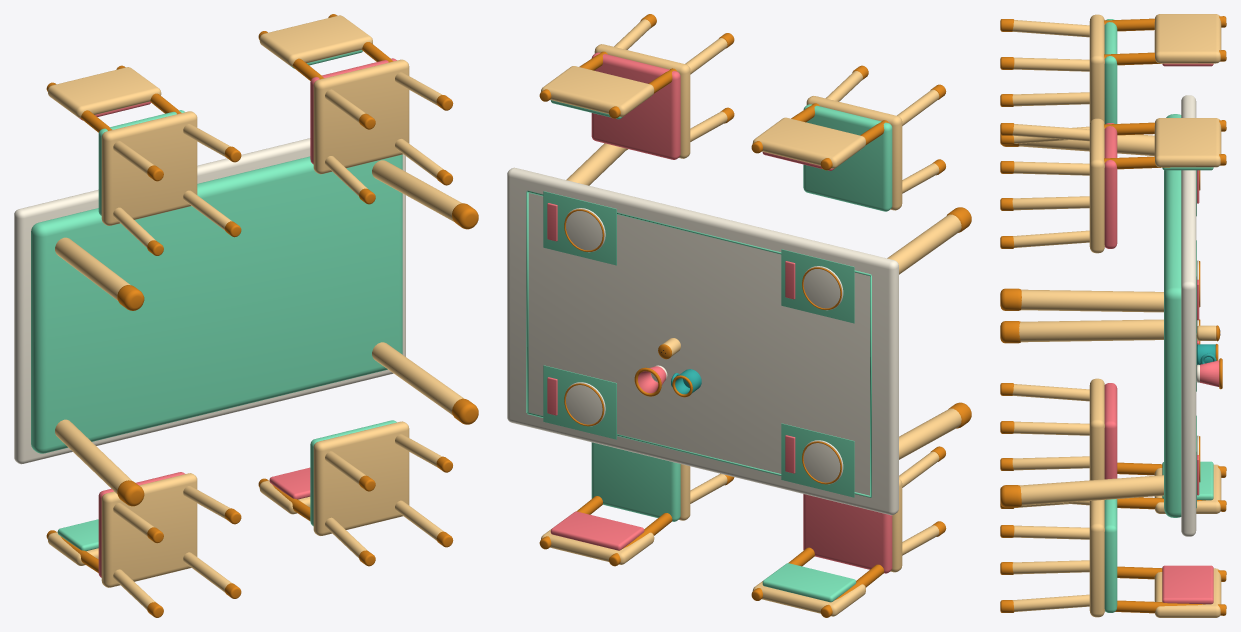
Rendered from KitchenDiningSet_Premium.fbx.
The picture shows the model from 3 angles, left to right: view 1: azimuth 30°, elevation 25°; view 2: azimuth 150°, elevation 25°; view 3: azimuth 270°, elevation 25°; orthographic projection.
Parts seen in each view (by area): view 1: DiningTable, DiningChair_4, DiningChair_3, DiningChair_2, DiningChair_1; view 2: DiningTable, DiningChair_3, DiningChair_4, DiningChair_1, DiningChair_2, ThrowProp_2_Bowl, ThrowProp_1_Cup; view 3: DiningTable, DiningChair_4, DiningChair_3, DiningChair_2, DiningChair_1, ThrowProp_2_Bowl, ThrowProp_1_Cup, ThrowProp_3_Shaker.
Boxes of the visible parts, x1,y1,x2,y2 form: DiningTable: (14, 138, 478, 506); DiningChair_4: (258, 14, 453, 204); DiningChair_3: (46, 65, 241, 255); DiningChair_2: (258, 420, 453, 566); DiningChair_1: (46, 472, 241, 617); DiningTable: (507, 143, 971, 515); DiningChair_3: (751, 65, 946, 211); DiningChair_4: (539, 14, 734, 159); DiningChair_1: (751, 446, 946, 617); DiningChair_2: (539, 442, 734, 566); ThrowProp_2_Bowl: (634, 365, 667, 396); ThrowProp_1_Cup: (671, 369, 701, 397); DiningTable: (1000, 95, 1200, 536); DiningChair_4: (1000, 118, 1226, 253); DiningChair_3: (1000, 14, 1226, 144); DiningChair_2: (1000, 488, 1226, 617); DiningChair_1: (1000, 378, 1226, 513); ThrowProp_2_Bowl: (1196, 358, 1222, 389); ThrowProp_1_Cup: (1197, 344, 1218, 364); ThrowProp_3_Shaker: (1196, 325, 1220, 341).
Bounding box in the file's own units: 1.8 × 2.03 × 0.9006.
